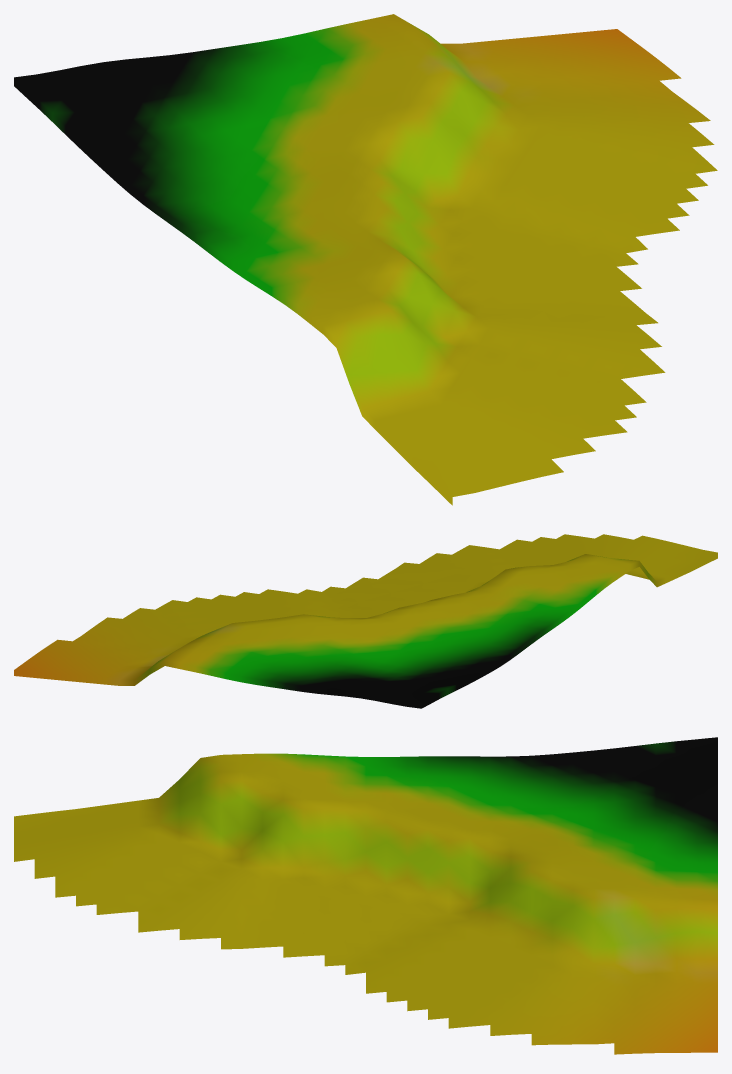
The model's file is coast_400_400_400.glb.
3 views of the same model, one above another, from view 1: azimuth 30°, elevation 25°; view 2: azimuth 150°, elevation 25°; view 3: azimuth 270°, elevation 25° (orthographic). The views are drawn at different scales.
Parts seen in each view (by area): view 1: terrain; view 2: terrain; view 3: terrain.
Boxes of the visible parts, x1=… form: terrain: x1=14, y1=14, x2=717, y2=505; terrain: x1=14, y1=534, x2=717, y2=708; terrain: x1=14, y1=737, x2=717, y2=1054.
Size of the model in its own units: 108 by 18.39 by 136.
